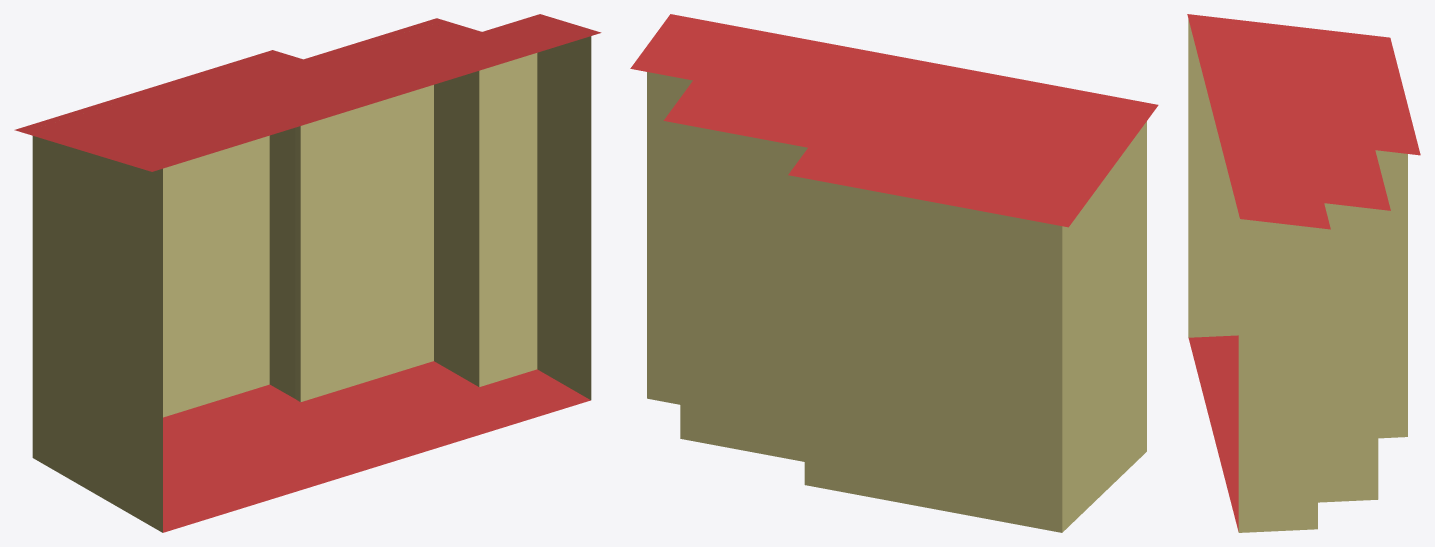
The picture shows the model from 3 angles, left to right: view 1: azimuth 30°, elevation 25°; view 2: azimuth 150°, elevation 25°; view 3: azimuth 270°, elevation 25°; orthographic projection. The views are drawn at different scales.
Size of the model in its own units: 10.91 by 5.03 by 7.57.
